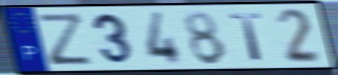2: (275, 7, 323, 66)
3: (89, 11, 137, 66)
4: (146, 10, 181, 66)
8: (183, 9, 229, 66)
T: (228, 11, 266, 62)
Z: (36, 12, 95, 67)
